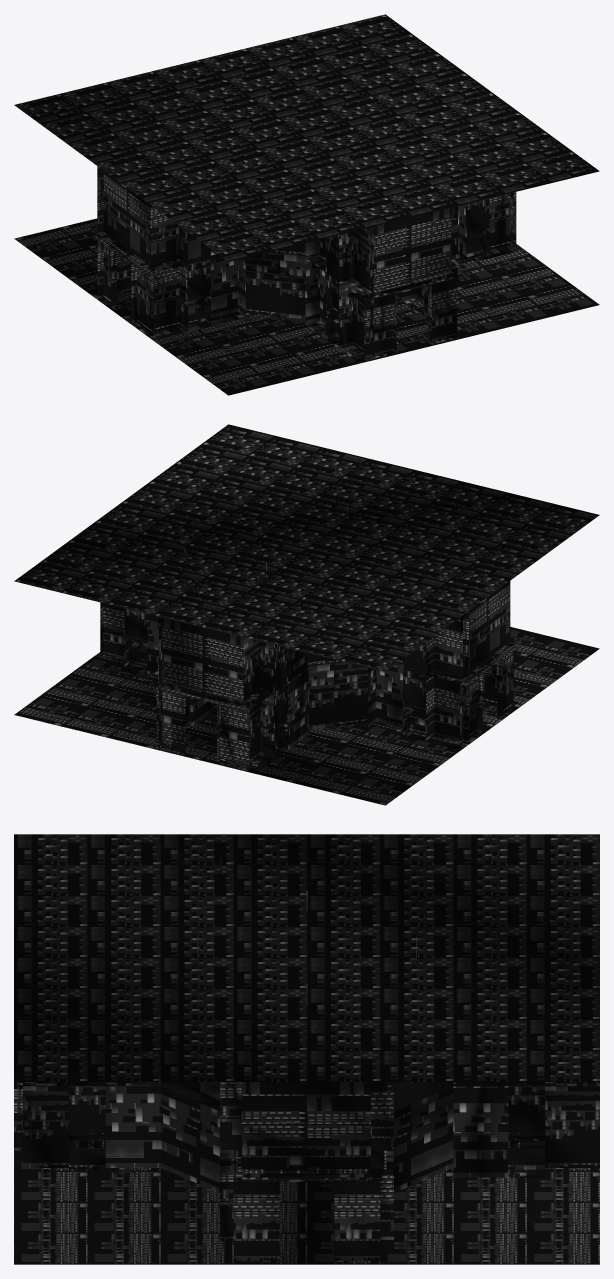
File: room4_2_opt.obj
3 renders of one model, top to bottom at view 1: azimuth 30°, elevation 25°; view 2: azimuth 150°, elevation 25°; view 3: azimuth 270°, elevation 25°, orthographic. The views are drawn at different scales.
Size of the model in its own units: 102 by 39.24 by 102.
20 materials, 20 textured.
